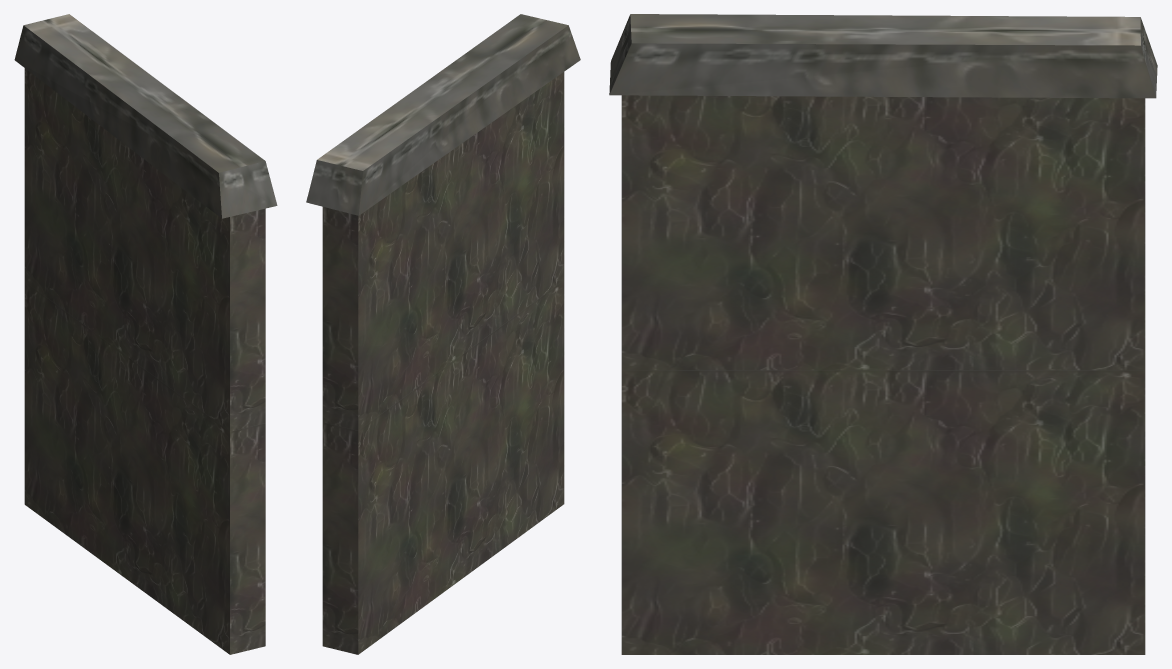
The model's file is Wall.obj.
The picture shows the model from 3 angles, left to right: view 1: azimuth 30°, elevation 25°; view 2: azimuth 150°, elevation 25°; view 3: azimuth 270°, elevation 25°; orthographic projection. The views are drawn at different scales.
Visible parts, largest first — view 1: Wall; view 2: Wall; view 3: Wall.
Boxes of the visible parts, bbox=[...] form: Wall: bbox=[14, 14, 277, 654]; Wall: bbox=[306, 14, 580, 654]; Wall: bbox=[609, 14, 1157, 654].
Bounding box in the file's own units: 1.68 × 12.94 × 10.47.
